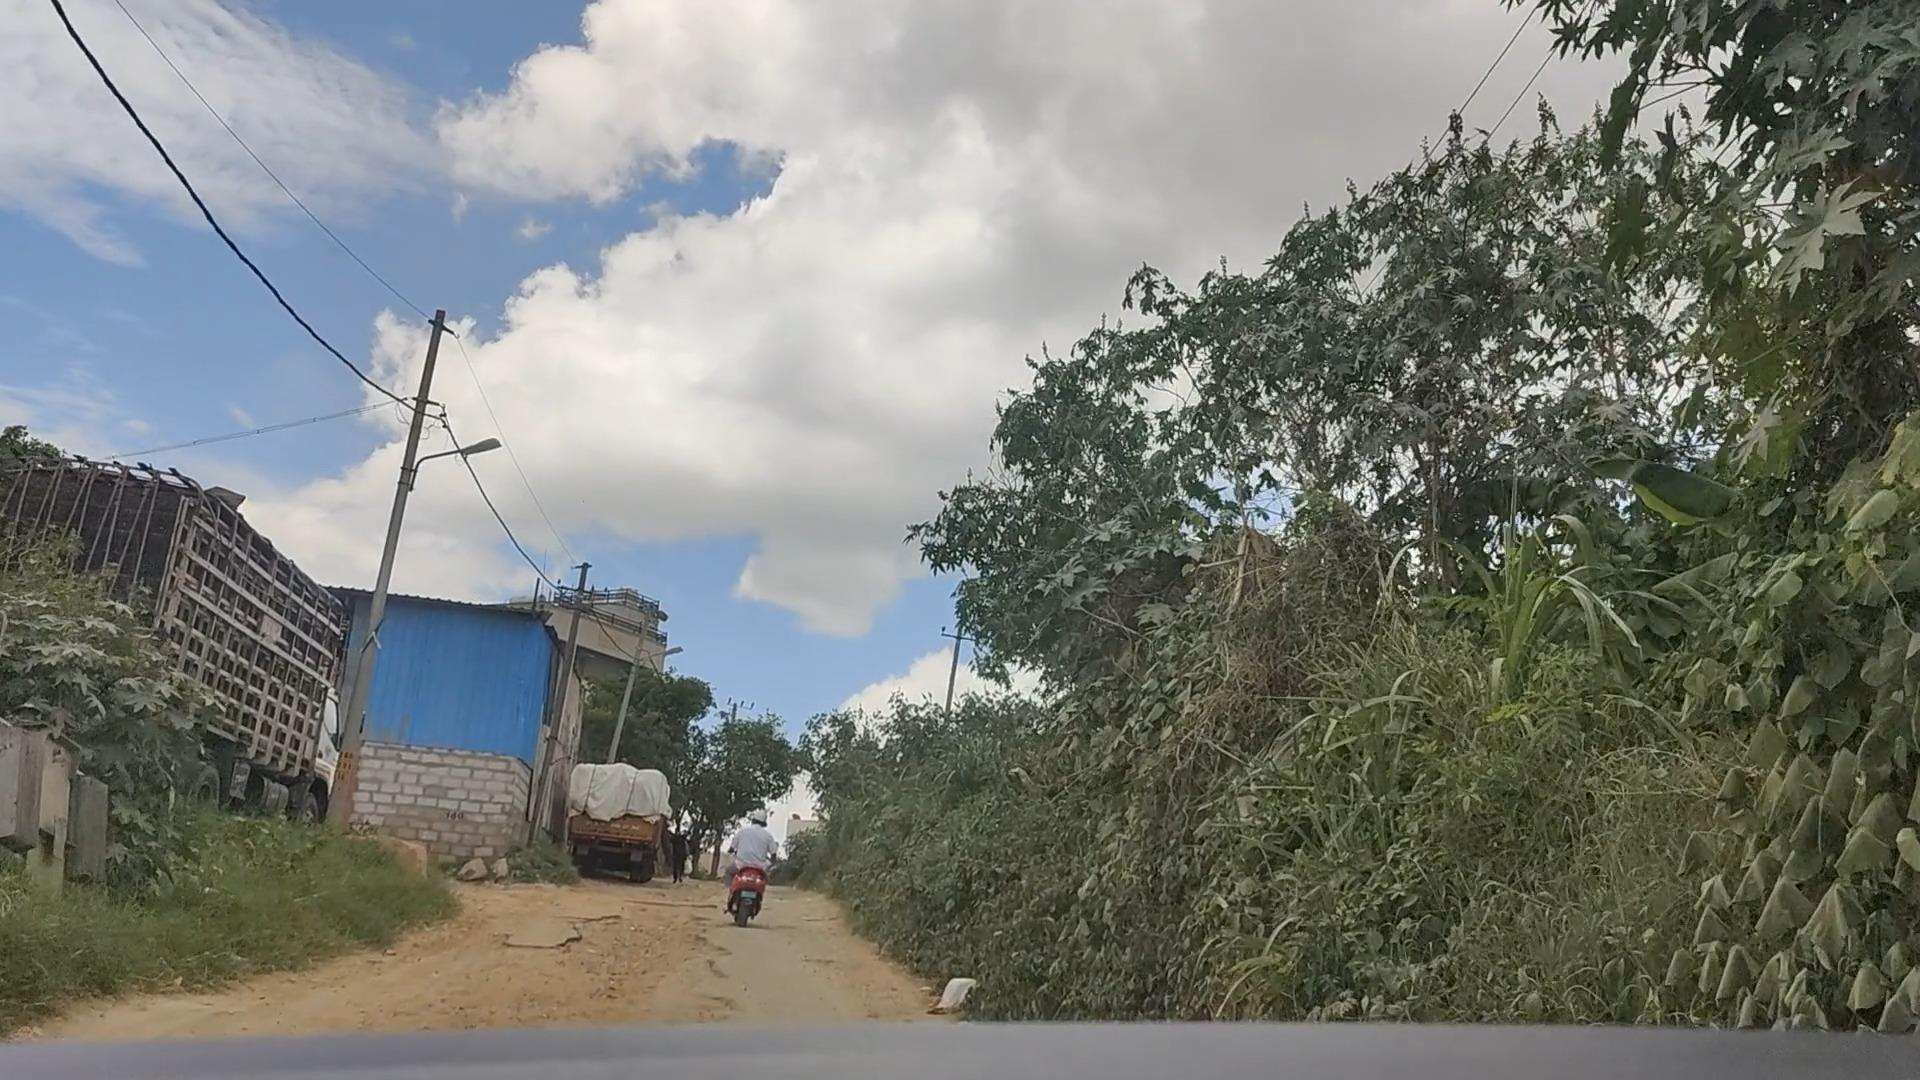HMV: (562, 758, 673, 889)
RoadDamages: (450, 916, 748, 1017)
